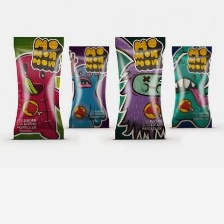snack: (8, 30, 70, 145), (110, 29, 172, 142), (165, 41, 220, 131), (63, 40, 113, 131)
